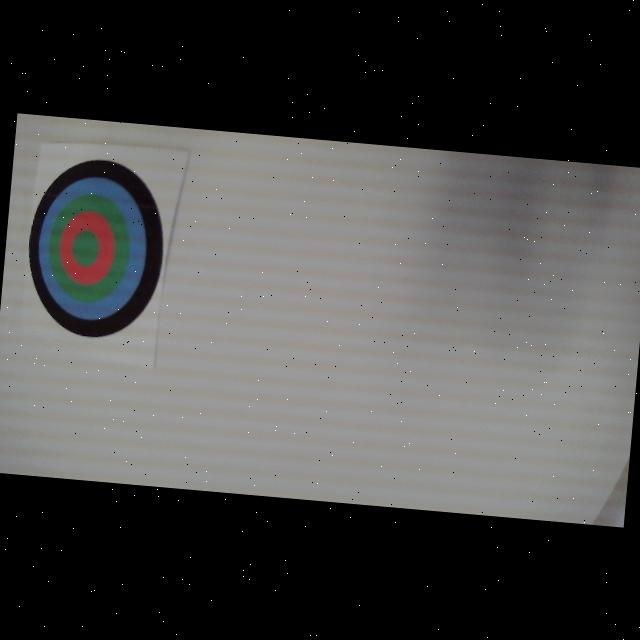COGNITIVE: (21, 152, 172, 342)
